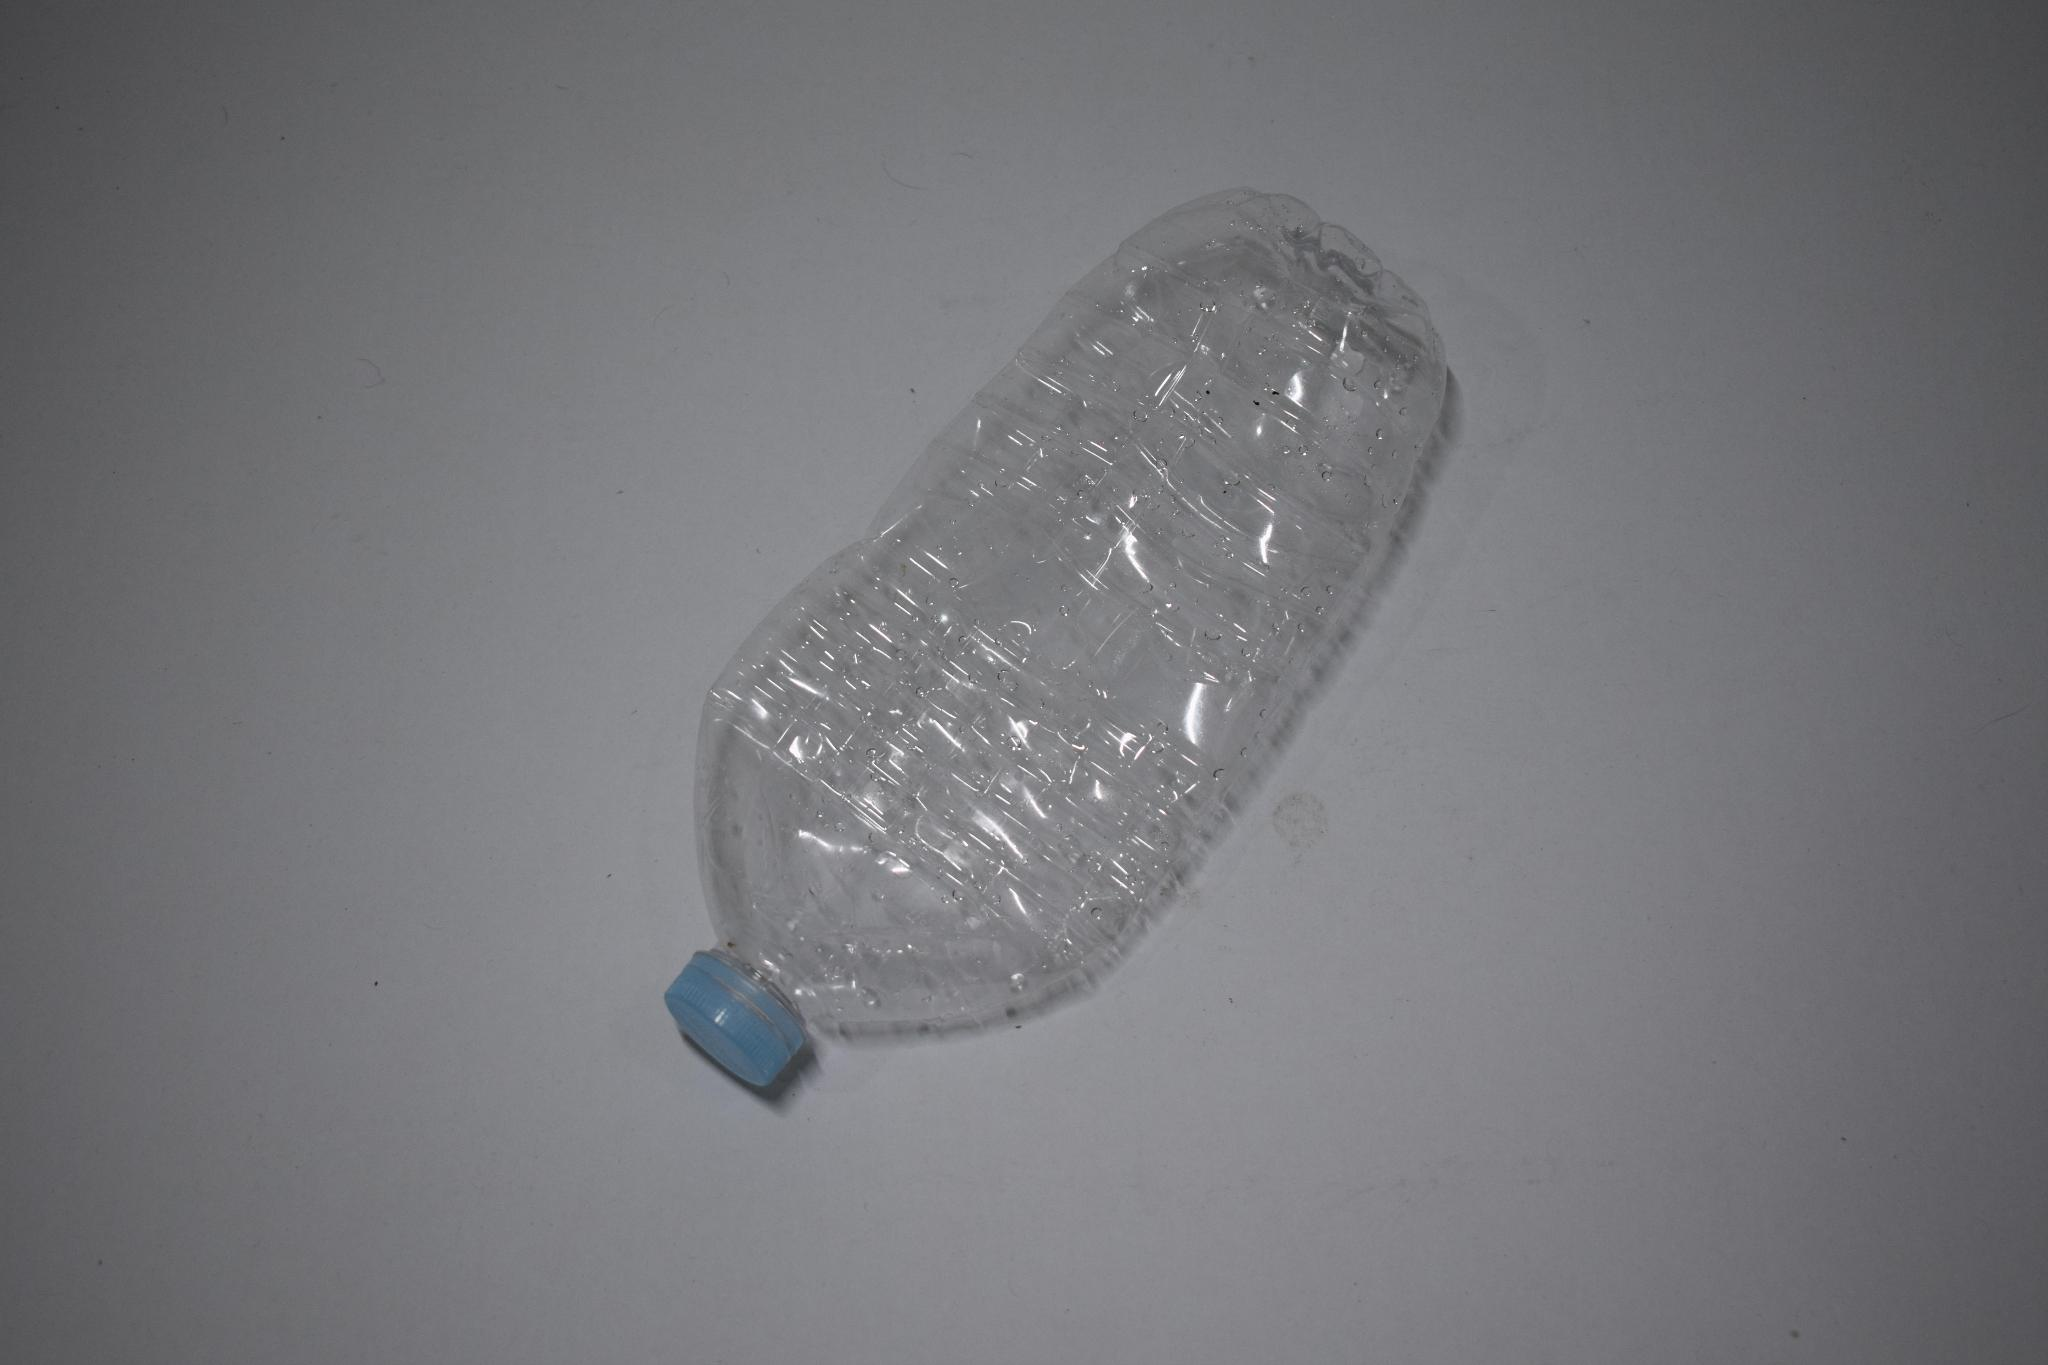bottle: (643, 186, 1482, 1114)
